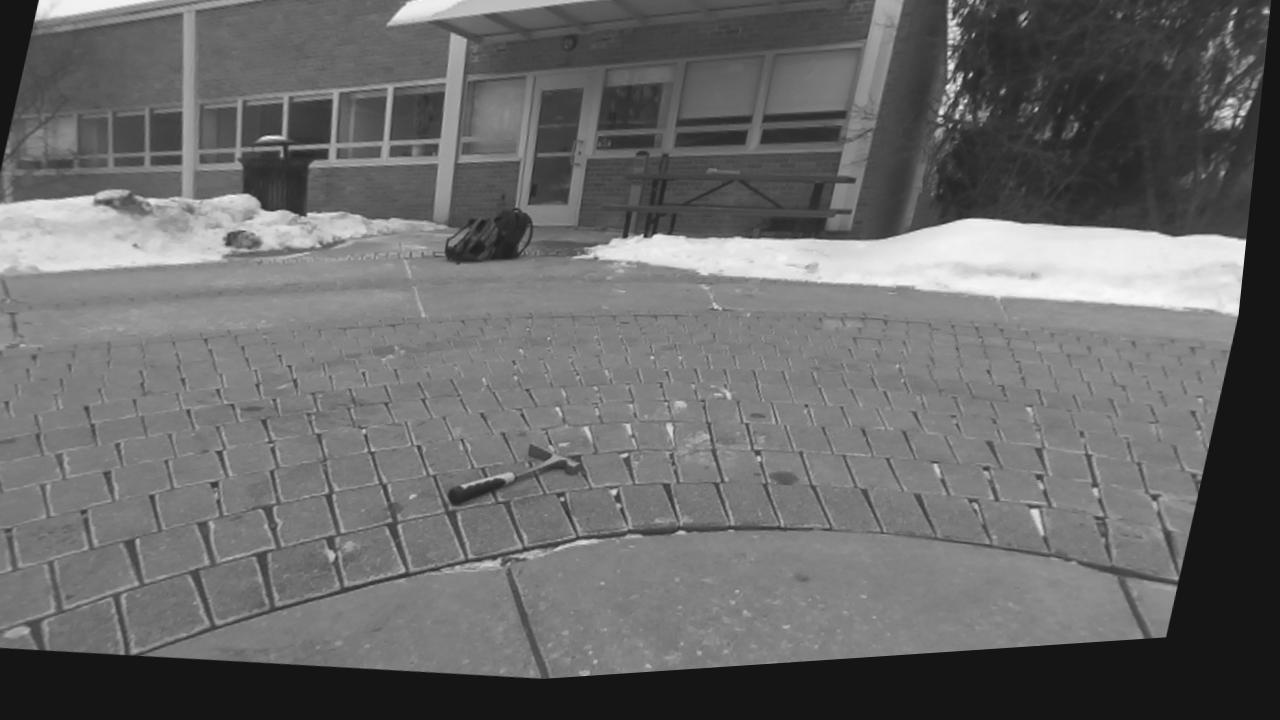pick: (448, 444, 582, 505)
